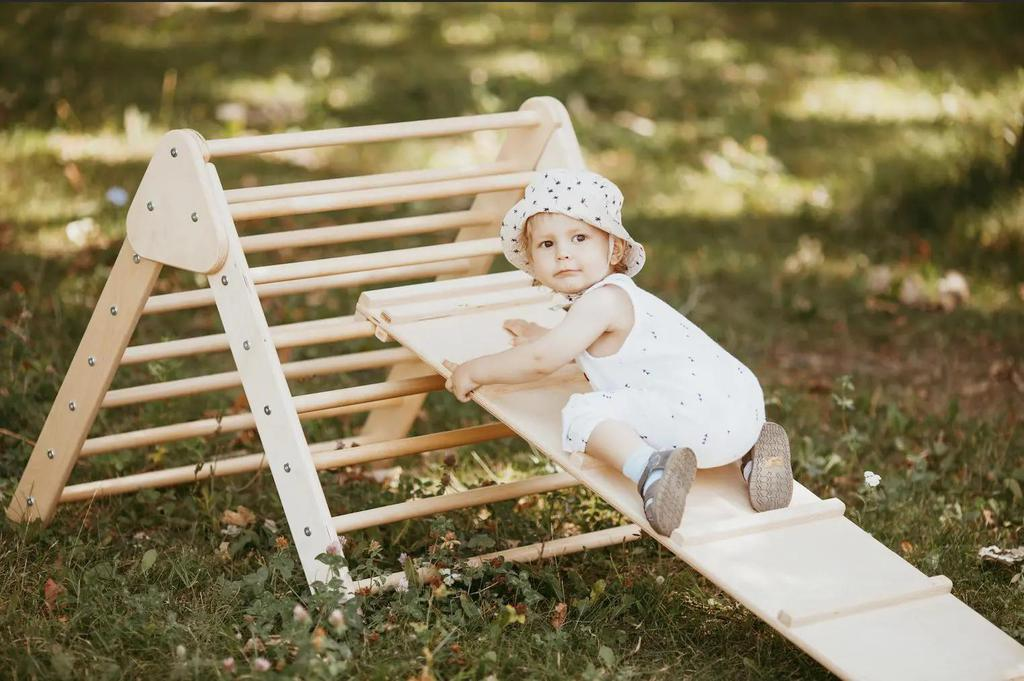child: (432, 167, 820, 537)
